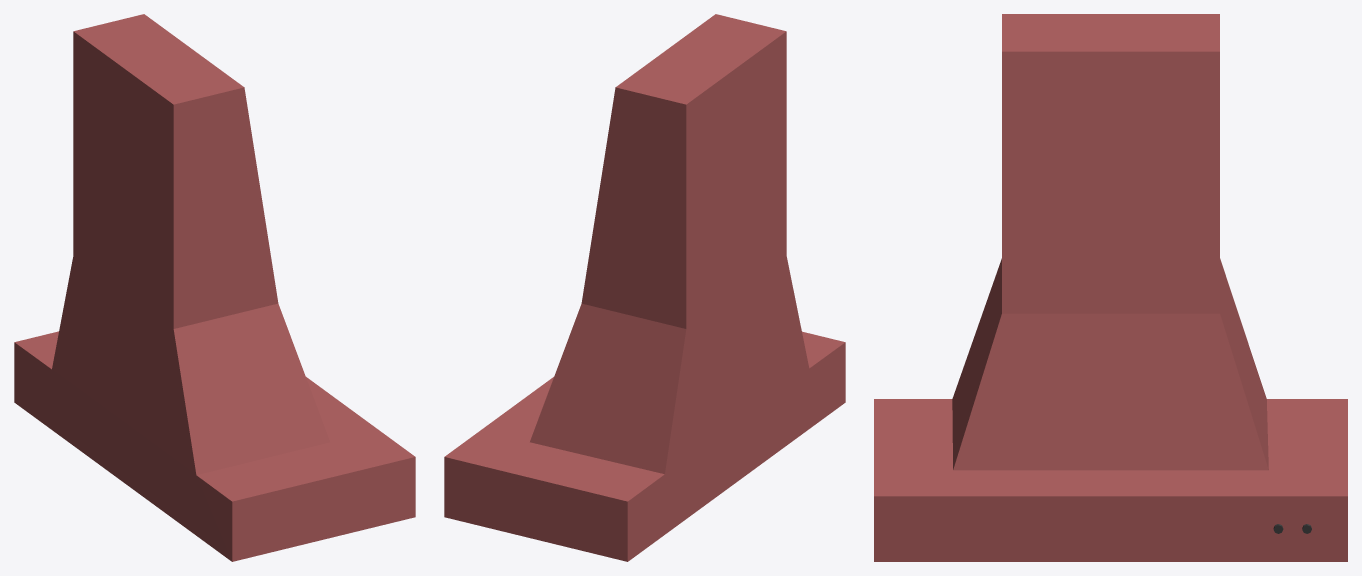
The model's file is Kitchen_Hood.fbx.
3 renders of one model, left to right at view 1: azimuth 30°, elevation 25°; view 2: azimuth 150°, elevation 25°; view 3: azimuth 270°, elevation 25°, orthographic. The views are drawn at different scales.
Visible parts, largest first — view 1: Kitchen_Hood; view 2: Kitchen_Hood; view 3: Kitchen_Hood.
Boxes of the visible parts, <box> form: Kitchen_Hood: <box>14,14,415,561</box>; Kitchen_Hood: <box>444,14,845,561</box>; Kitchen_Hood: <box>874,14,1347,561</box>.
Size of the model in its own units: 61.56 by 131 by 125.
